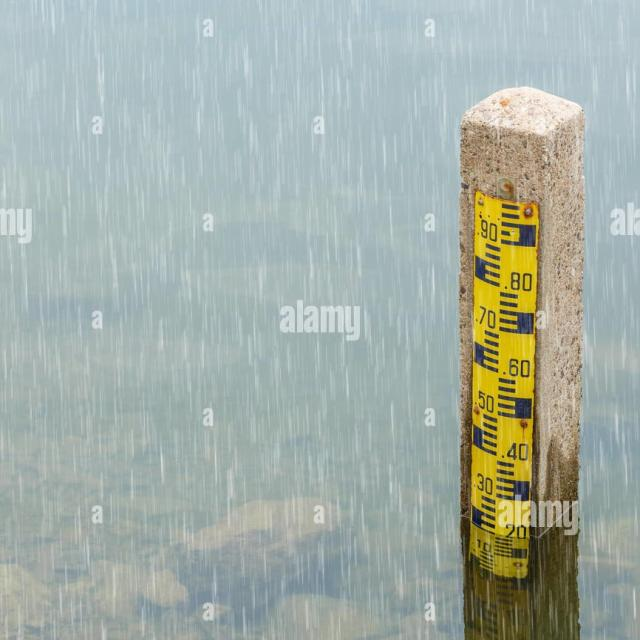ruler: (468, 184, 546, 546)
value: (502, 267, 534, 295), (500, 354, 533, 380), (500, 440, 532, 465), (472, 389, 498, 417), (496, 520, 528, 542), (474, 303, 498, 331), (472, 472, 496, 498), (477, 219, 501, 244)
